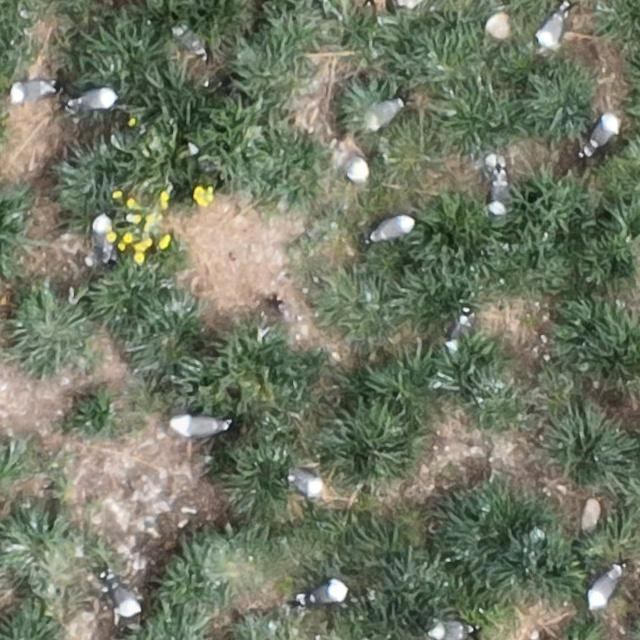umineko: (360, 97, 408, 128), (90, 212, 116, 261), (490, 170, 510, 225), (336, 151, 368, 185), (588, 570, 618, 606), (588, 113, 615, 150), (174, 415, 221, 436), (111, 582, 140, 616), (538, 12, 566, 46), (372, 217, 411, 240), (174, 29, 206, 57), (76, 88, 115, 109), (12, 81, 50, 102), (306, 581, 342, 603), (430, 621, 469, 639), (291, 474, 321, 496)
